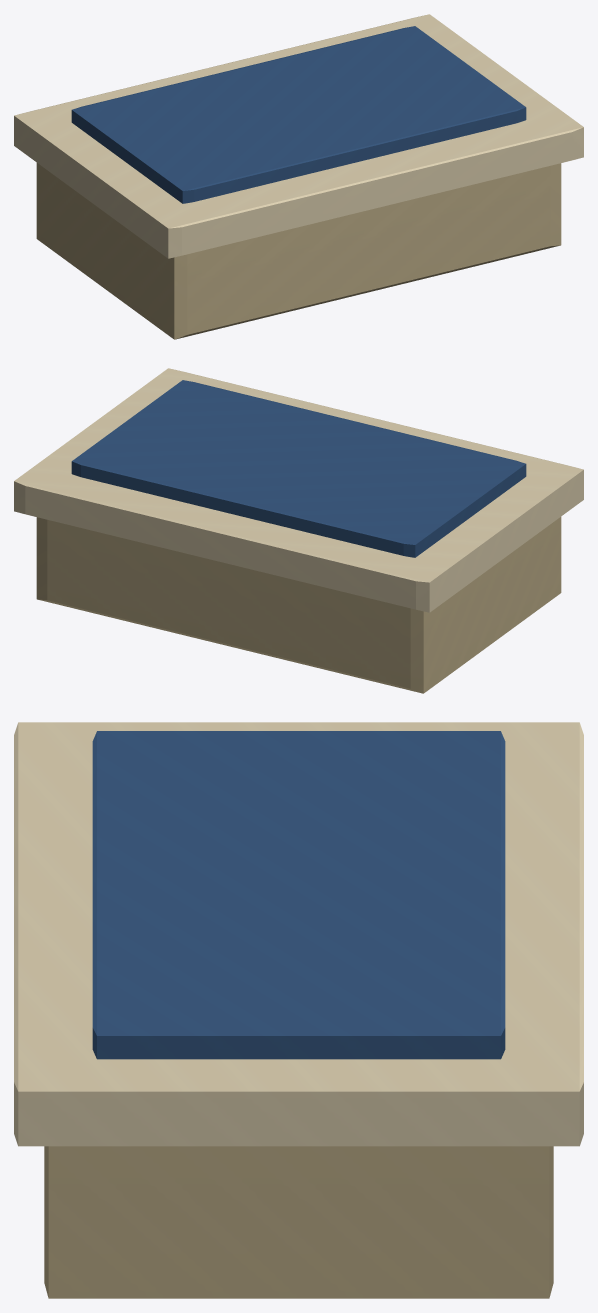
Rendered from SM_WC_BenchPlinth.fbx.
3 views of the same model, one above another, from view 1: azimuth 30°, elevation 25°; view 2: azimuth 150°, elevation 25°; view 3: azimuth 270°, elevation 25° (orthographic). The views are drawn at different scales.
Parts seen in each view (by area): view 1: SM_WC_BenchPlinth; view 2: SM_WC_BenchPlinth; view 3: SM_WC_BenchPlinth.
Boxes of the visible parts, <box> form: SM_WC_BenchPlinth: <box>14,14,583,339</box>; SM_WC_BenchPlinth: <box>14,368,583,693</box>; SM_WC_BenchPlinth: <box>14,722,583,1298</box>.
Bounding box in the file's own units: 1.44 × 0.94 × 0.4425.
